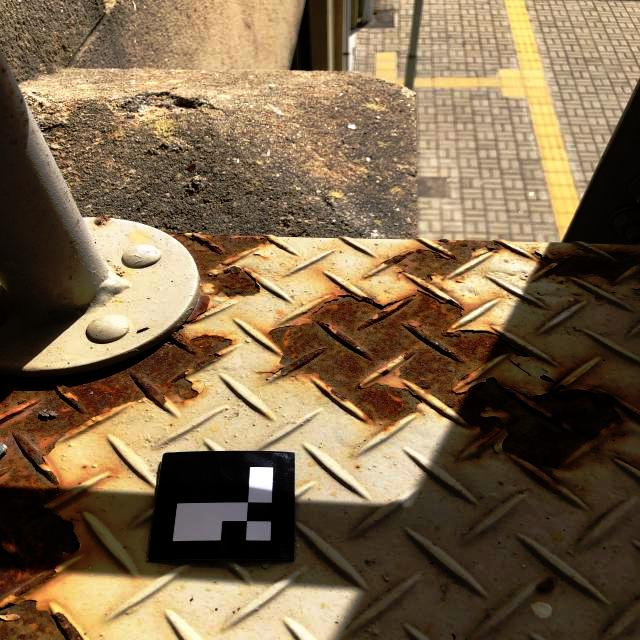Corrosion: (253, 239, 640, 493), (0, 323, 234, 640), (163, 232, 278, 300), (528, 246, 640, 290), (533, 577, 554, 593), (91, 216, 110, 227)
